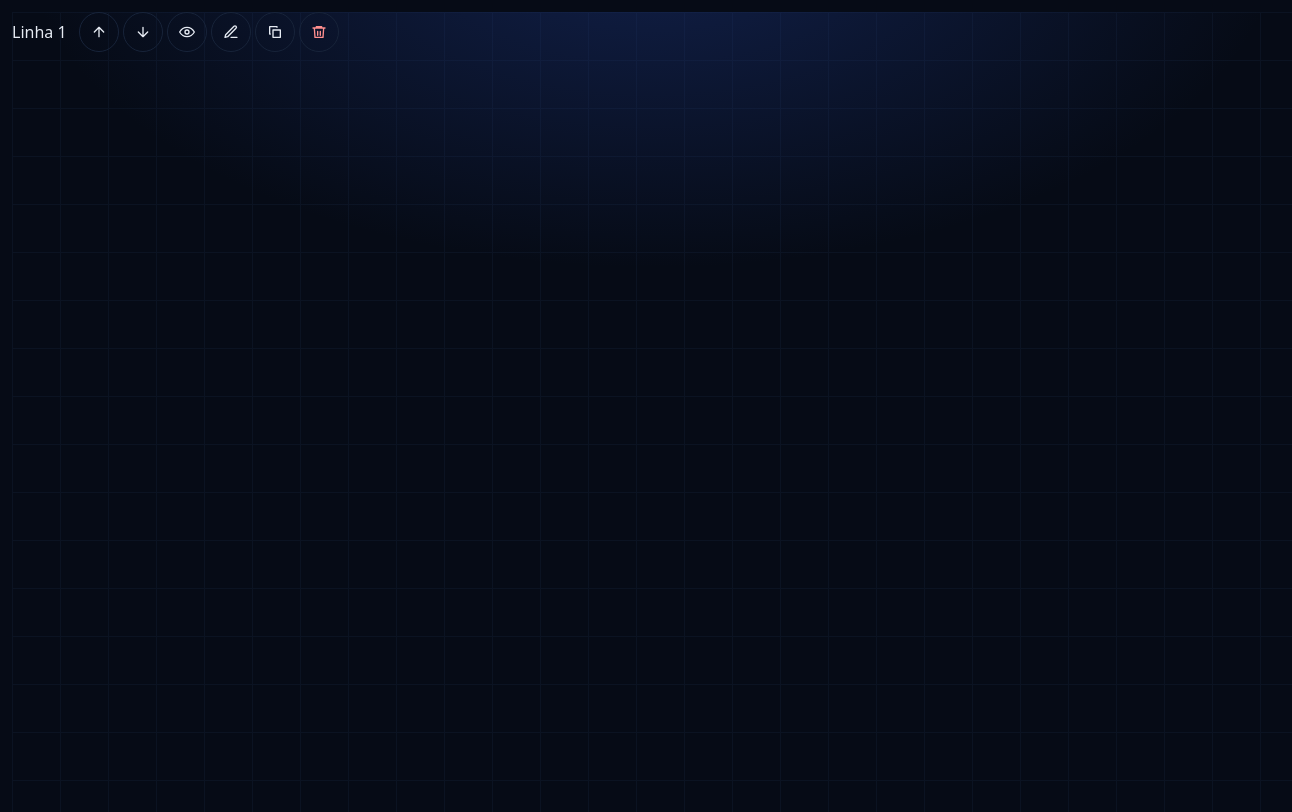
it: RowActions › duplicar chama a action e avisa que a cópia está oculta
Click the button named "Duplicar" at (275, 32), box [255,12,295,52]
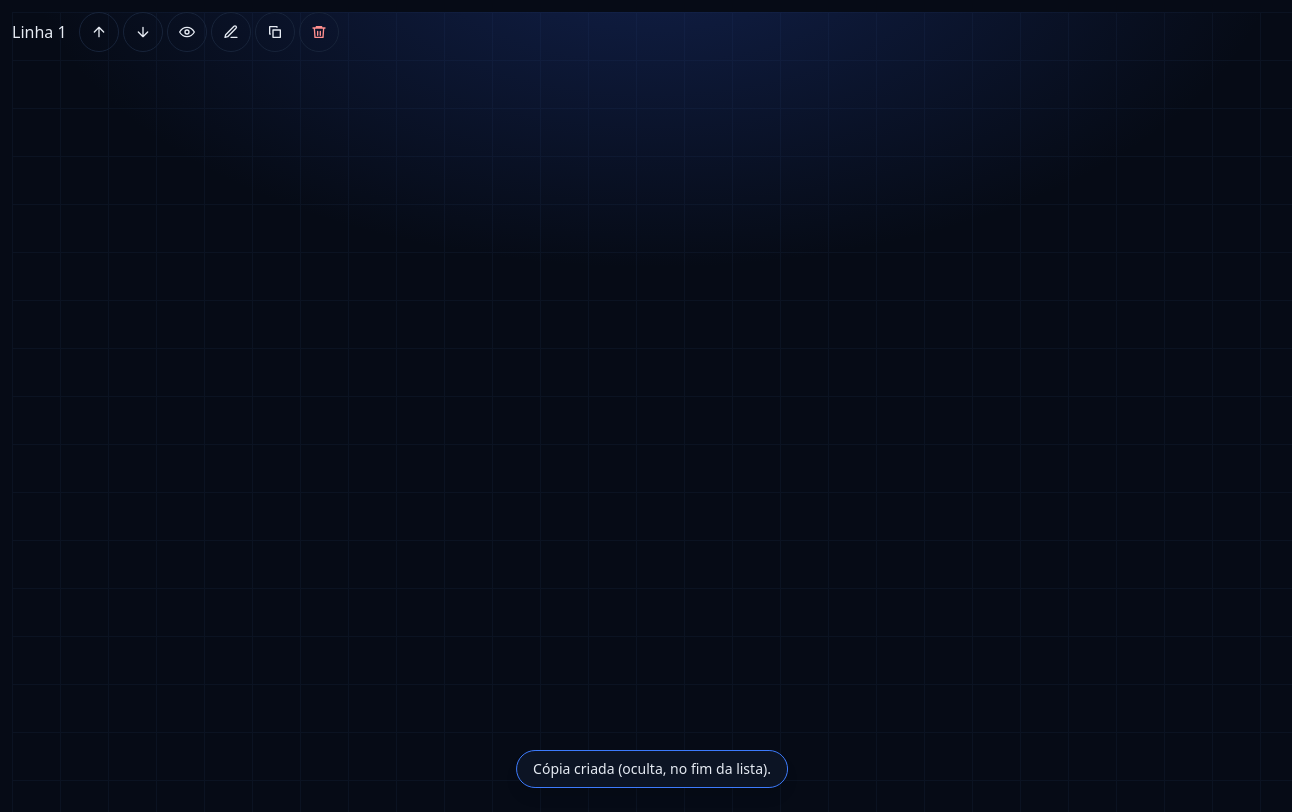
Expected: the text "Cópia criada (oculta, no fim da lista)." is shown, [516,750,788,788]
